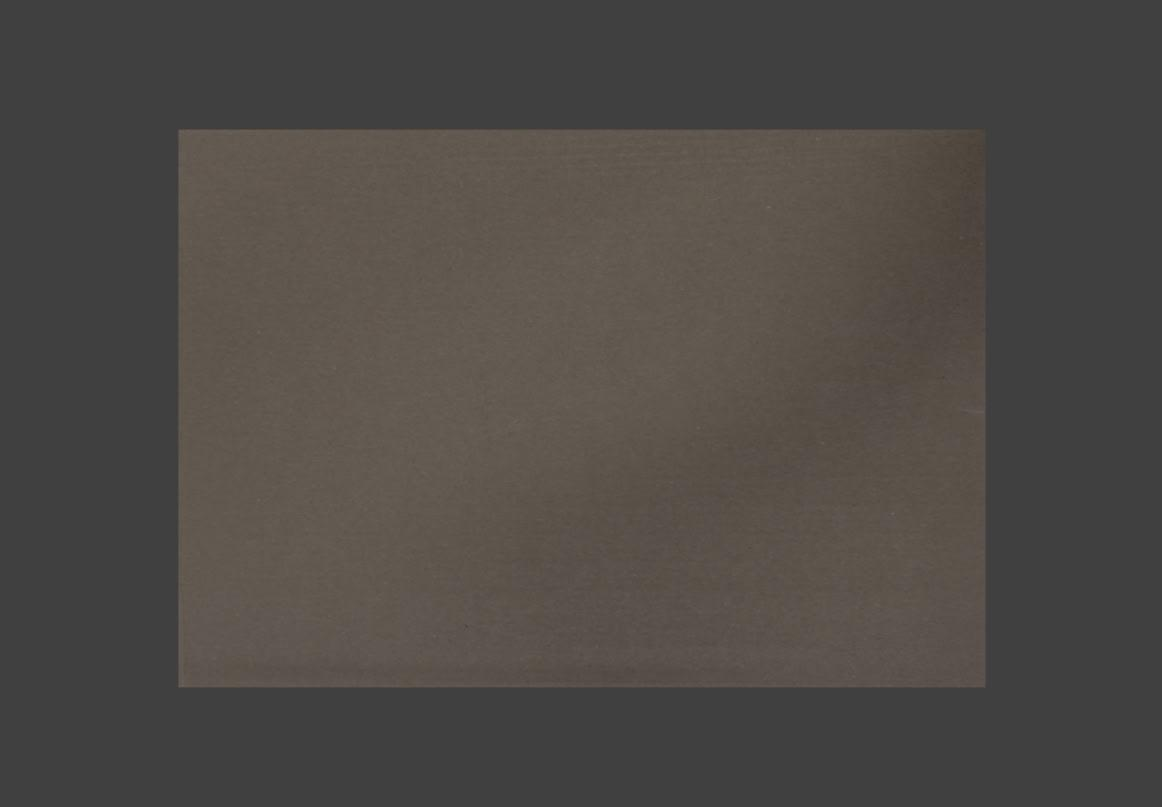group_box_left: (176, 127, 988, 687)
